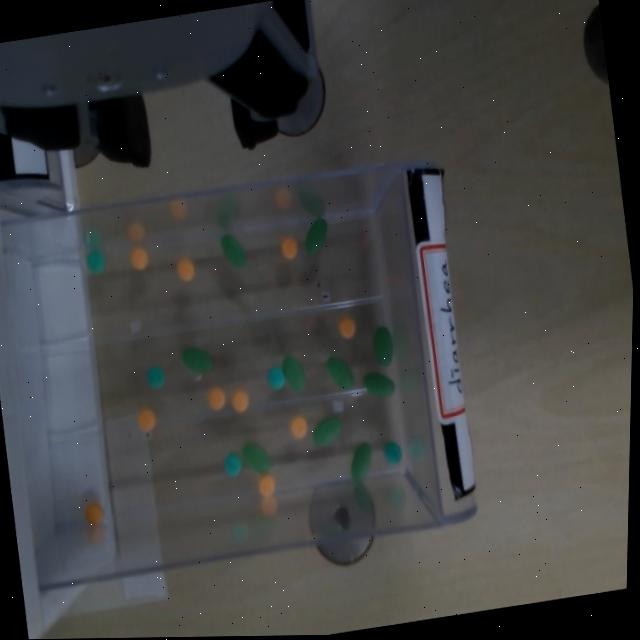famodine: (84, 250, 105, 275), (265, 365, 284, 391), (145, 366, 165, 390), (222, 453, 241, 478), (383, 441, 402, 465), (87, 249, 105, 274), (146, 366, 164, 389), (267, 366, 284, 390), (223, 452, 240, 476), (384, 442, 401, 464)
otillen_tab: (324, 352, 356, 393), (240, 439, 272, 478), (279, 352, 307, 396), (300, 215, 330, 256), (218, 231, 248, 271), (347, 441, 375, 483), (361, 369, 396, 402), (309, 414, 342, 448), (370, 324, 395, 368), (179, 344, 212, 376), (326, 356, 354, 389), (312, 414, 340, 446), (220, 234, 245, 268), (242, 443, 270, 473), (373, 325, 393, 366), (305, 217, 327, 254), (282, 355, 304, 392), (181, 347, 211, 374), (363, 371, 394, 397), (351, 443, 371, 481)
samsung_octylonium_tab: (82, 501, 104, 528), (228, 387, 250, 412), (175, 258, 196, 283), (127, 246, 148, 271), (84, 500, 103, 527), (205, 386, 226, 410), (289, 414, 308, 440), (135, 408, 155, 432), (337, 315, 357, 339), (279, 235, 298, 259), (289, 414, 307, 439), (137, 408, 155, 433), (130, 245, 148, 270), (256, 474, 274, 498), (257, 473, 274, 498), (207, 387, 225, 410), (176, 258, 194, 281), (337, 315, 355, 338), (231, 388, 248, 412), (280, 236, 297, 259)
